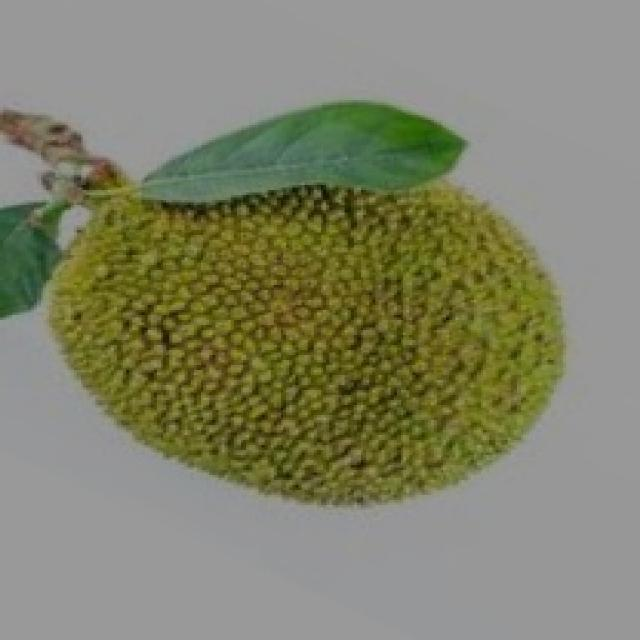Fruit: (200, 133, 606, 535)
